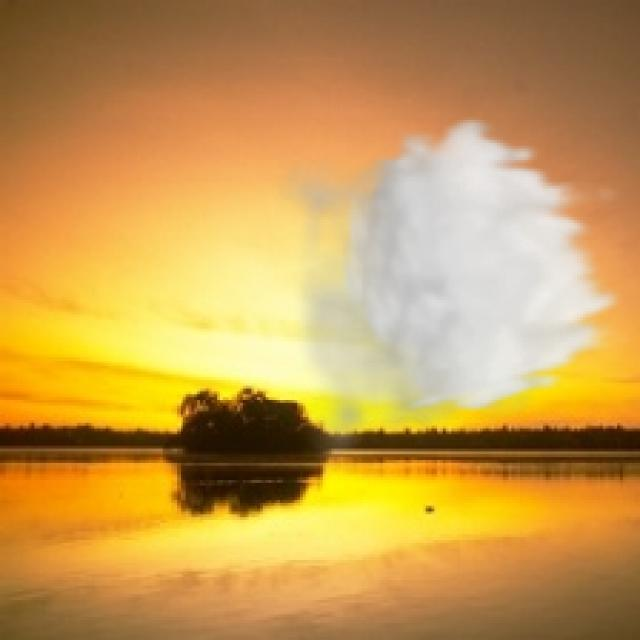Smoke: (272, 114, 628, 477)
